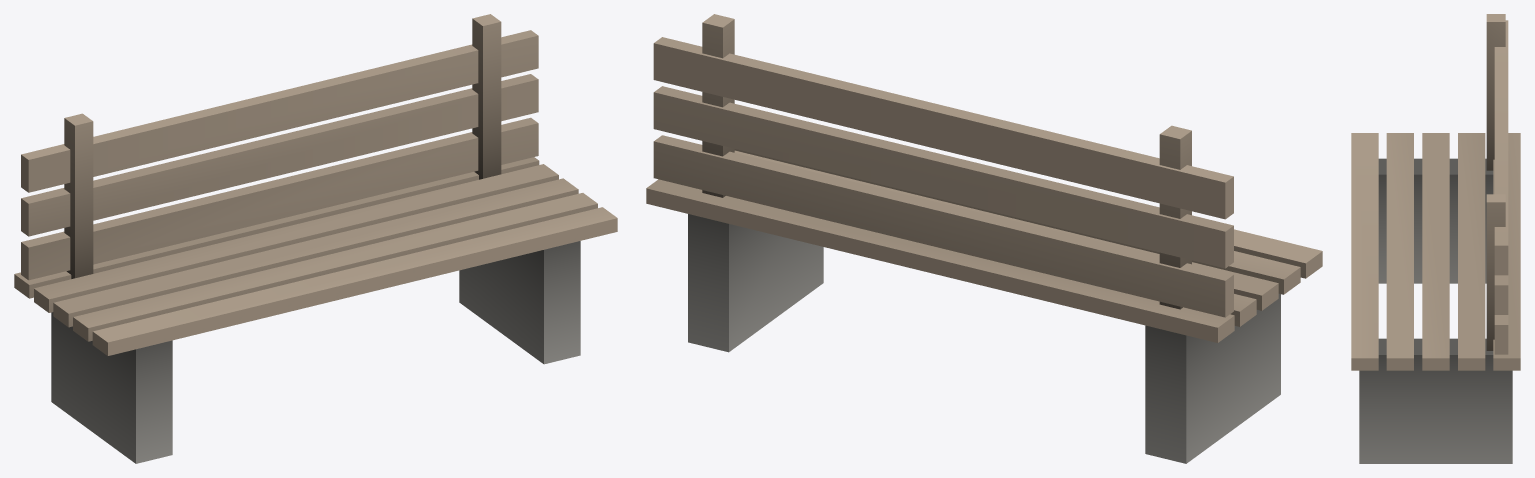
The model's file is park_bench.lod2.glb.
3 renders of one model, left to right at view 1: azimuth 30°, elevation 25°; view 2: azimuth 150°, elevation 25°; view 3: azimuth 270°, elevation 25°, orthographic. The views are drawn at different scales.
Visible parts, largest first — view 1: props_park_bench.lod2; view 2: props_park_bench.lod2; view 3: props_park_bench.lod2.
Part boxes in pixels (x1,y1,x2,y2): props_park_bench.lod2: (14,14,617,463); props_park_bench.lod2: (646,14,1322,463); props_park_bench.lod2: (1351,14,1520,463).
Bounding box in the file's own units: 1.95 × 1.04 × 0.6199.
